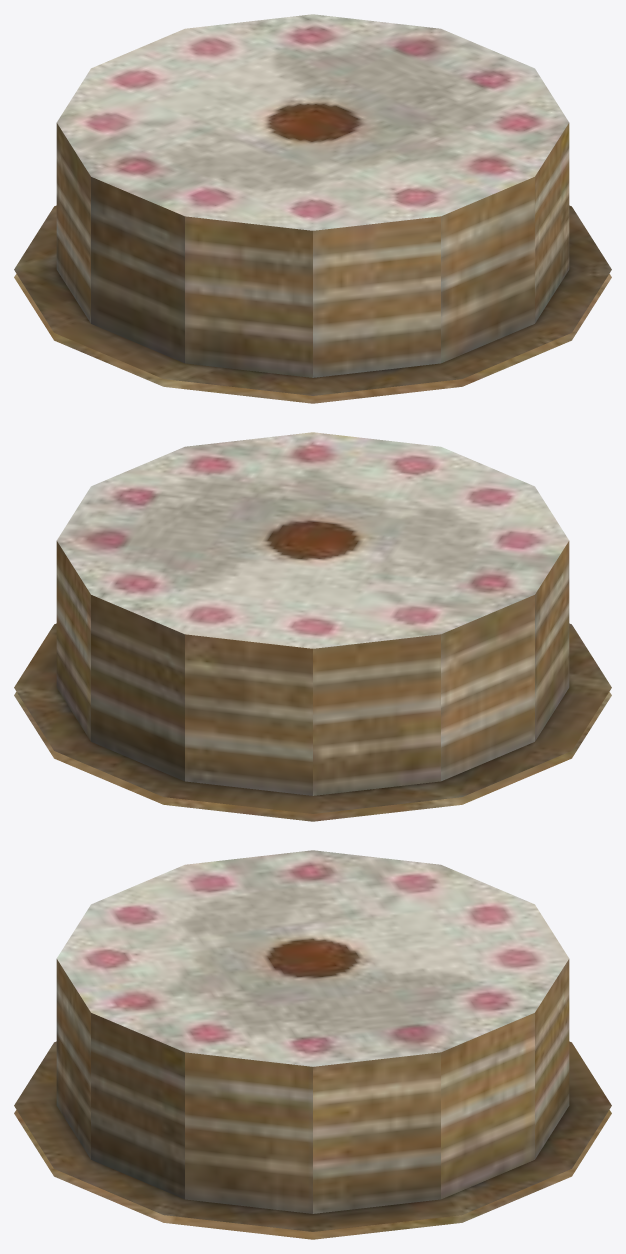
The model's file is cake_lod1_web.glb.
3 views of the same model, one above another, from view 1: azimuth 30°, elevation 25°; view 2: azimuth 150°, elevation 25°; view 3: azimuth 270°, elevation 25° (orthographic).
Visible parts, largest first — view 1: Cake_Body; view 2: Cake_Body; view 3: Cake_Body.
Boxes of the visible parts, <box> form: Cake_Body: <box>14,14,611,403</box>; Cake_Body: <box>14,432,611,821</box>; Cake_Body: <box>14,850,611,1239</box>.
Bounding box in the file's own units: 0.28 × 0.08 × 0.28.
Materials: 1 (1 with a texture image).
